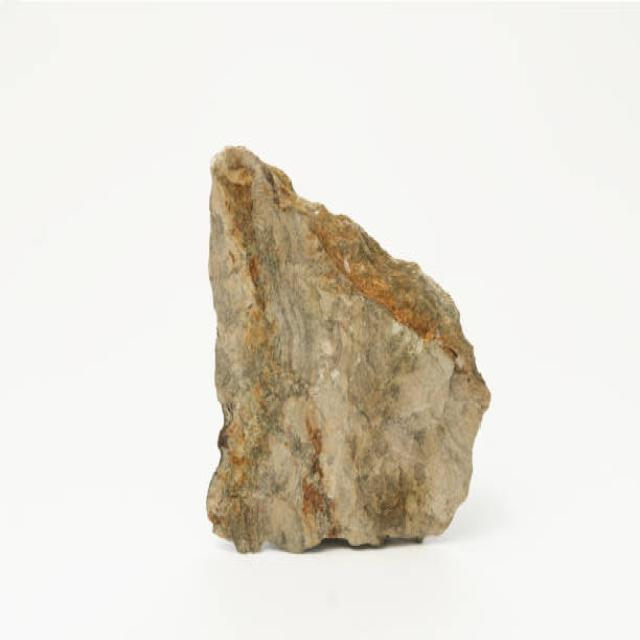Sedimentary: (184, 144, 497, 563)
